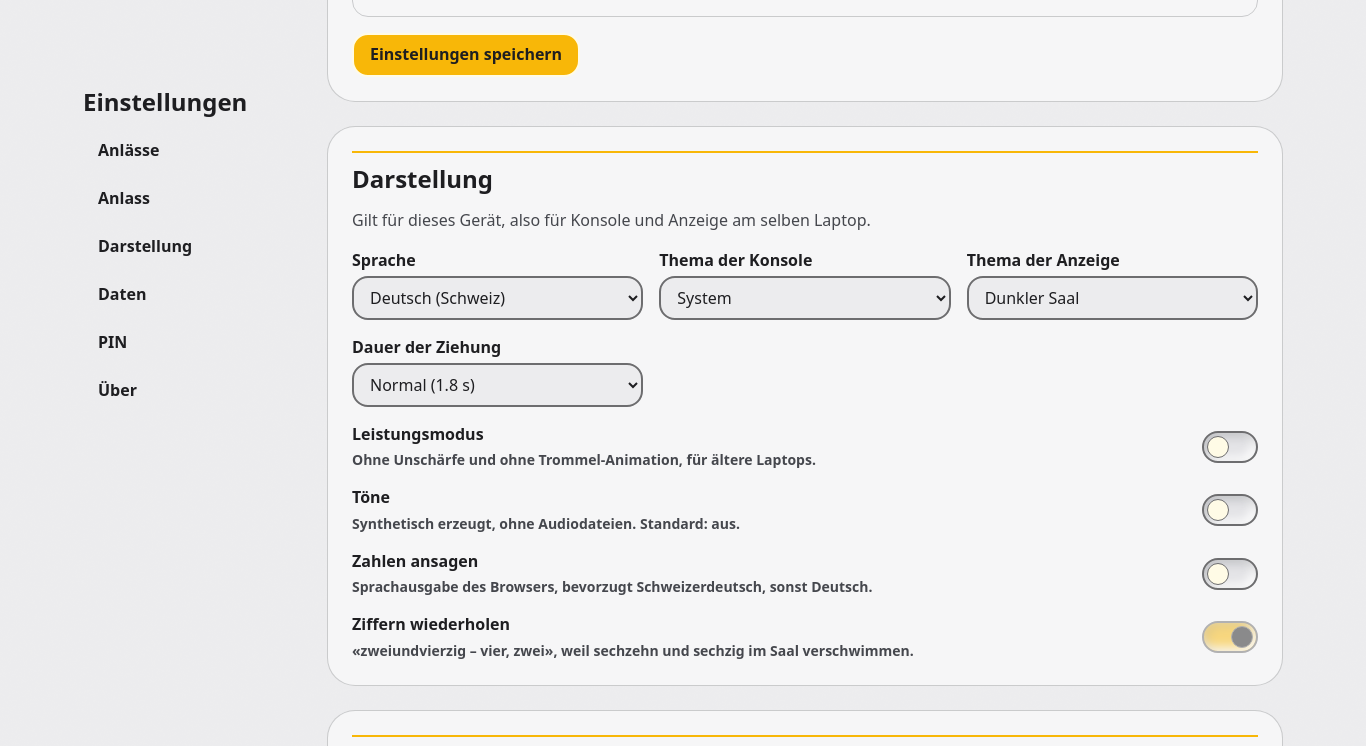
Test: Darstellung › applies device preferences immediately
The image size is (1366, 746).
Later steps or results of the test are not shown.
(page scrolled)
Select "Spannend (3 s)" in the dropdown labelled "Dauer der Ziehung". click: (498, 385)
box: [352,363,643,407]
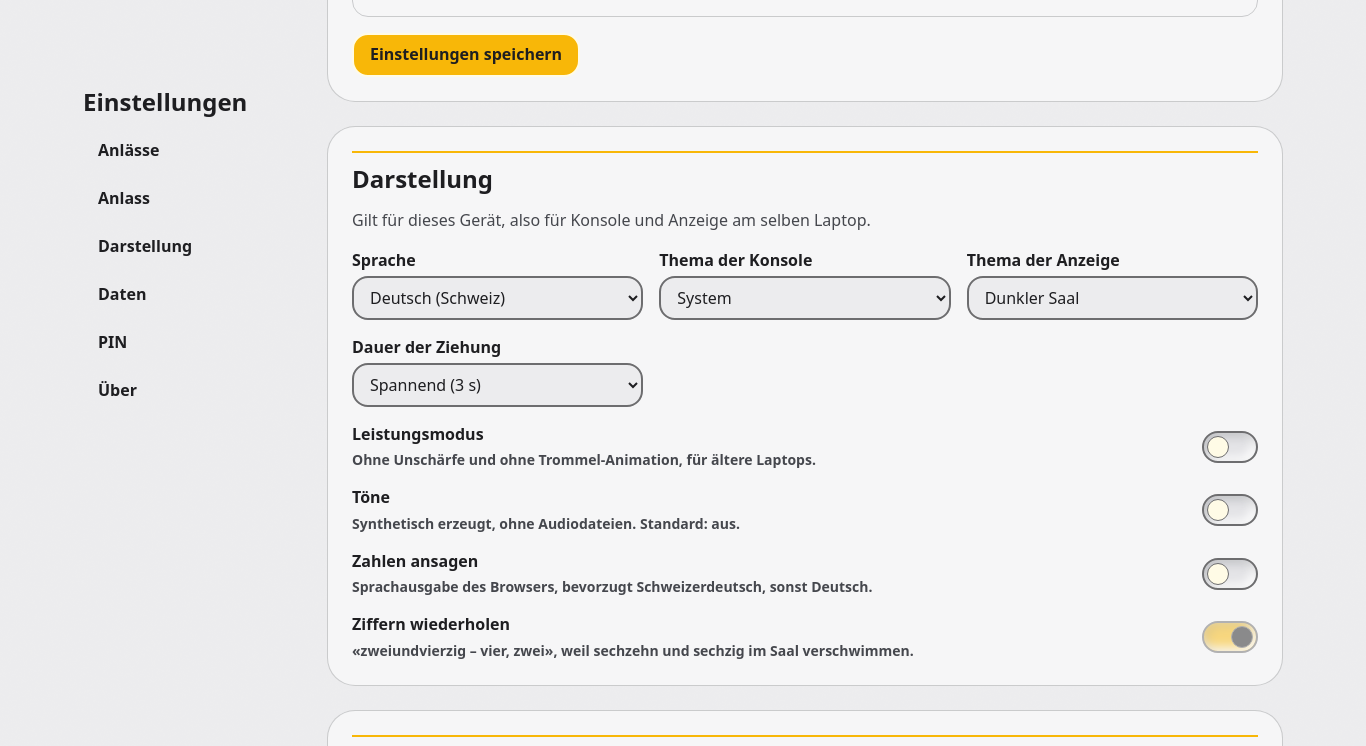
Select "Heller Saal" in the dropdown labelled "Thema der Anzeige". click: (1112, 298)
box: [967,276,1258,320]
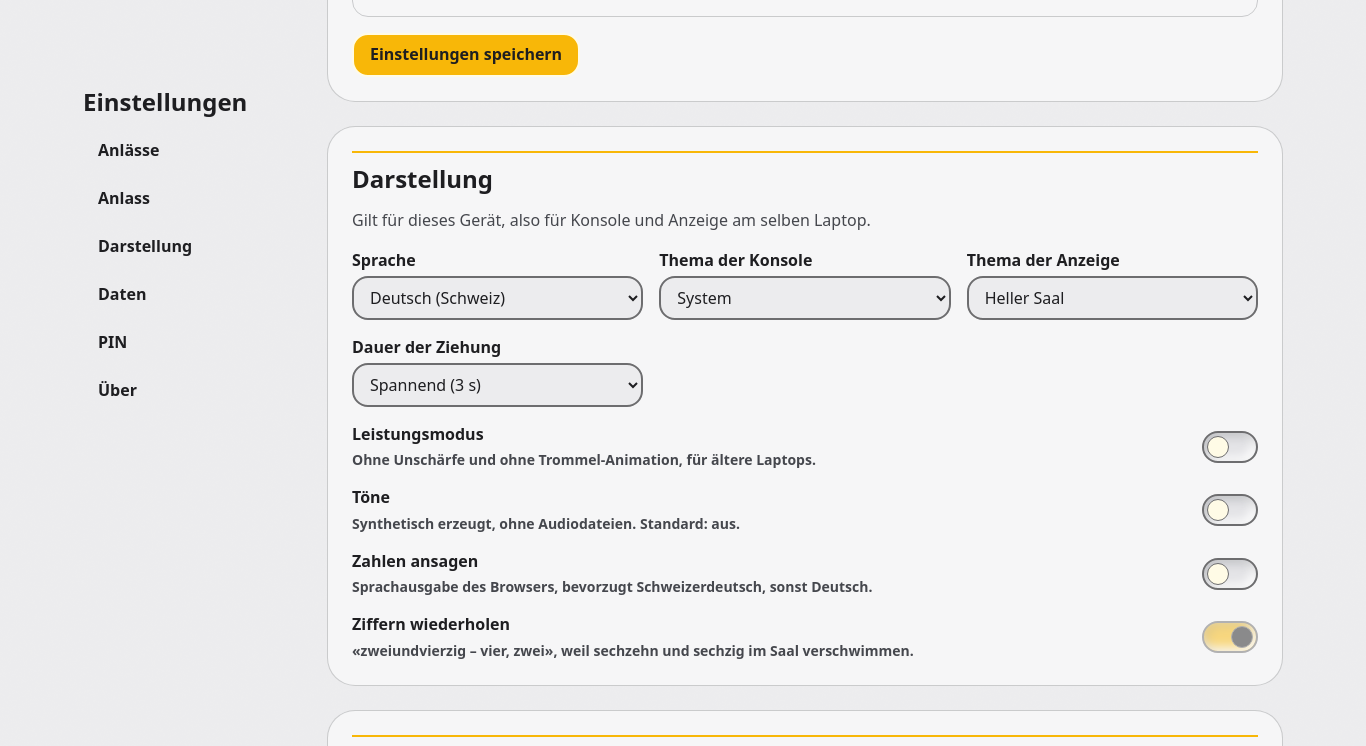
Select "Dunkler Saal" in the dropdown labelled "Thema der Konsole". click: (805, 298)
box: [659,276,951,320]
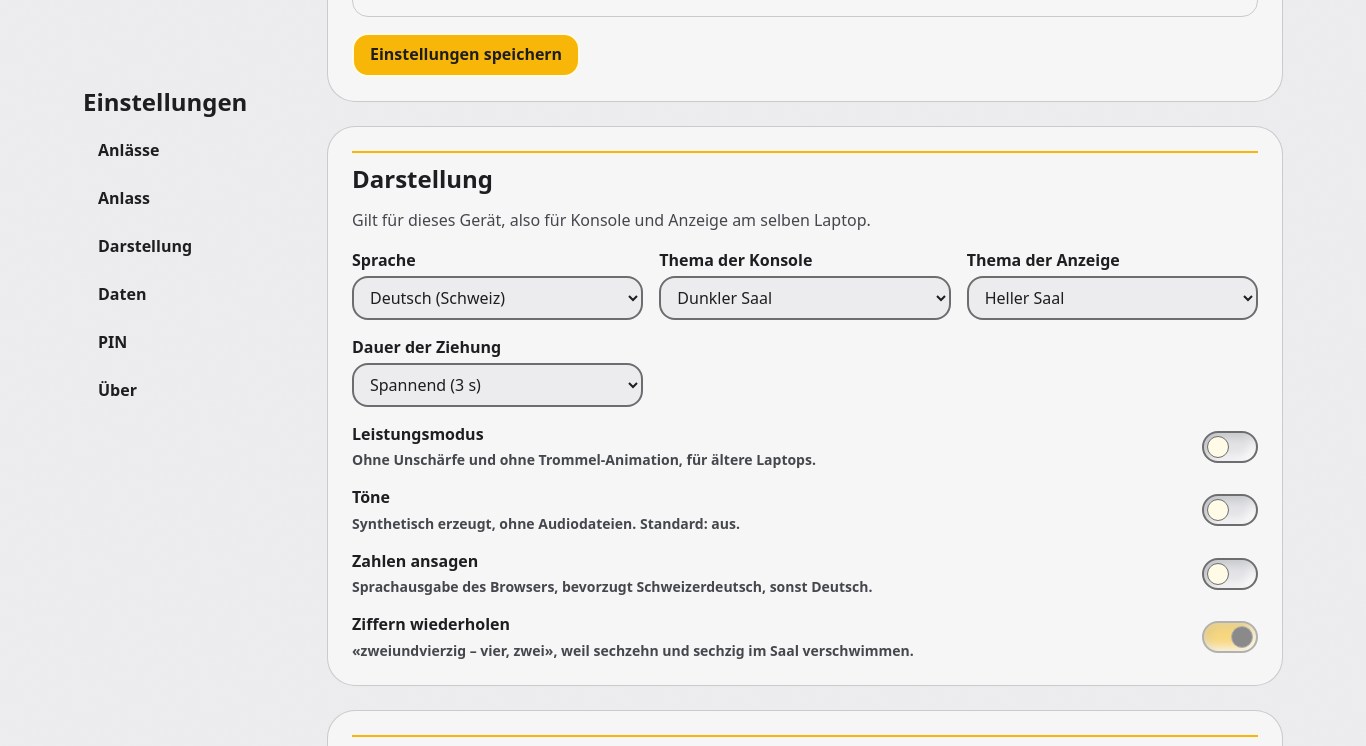
Click the switch labelled "Leistungsmodus". click: (1230, 447)
box: [1202,431,1258,463]
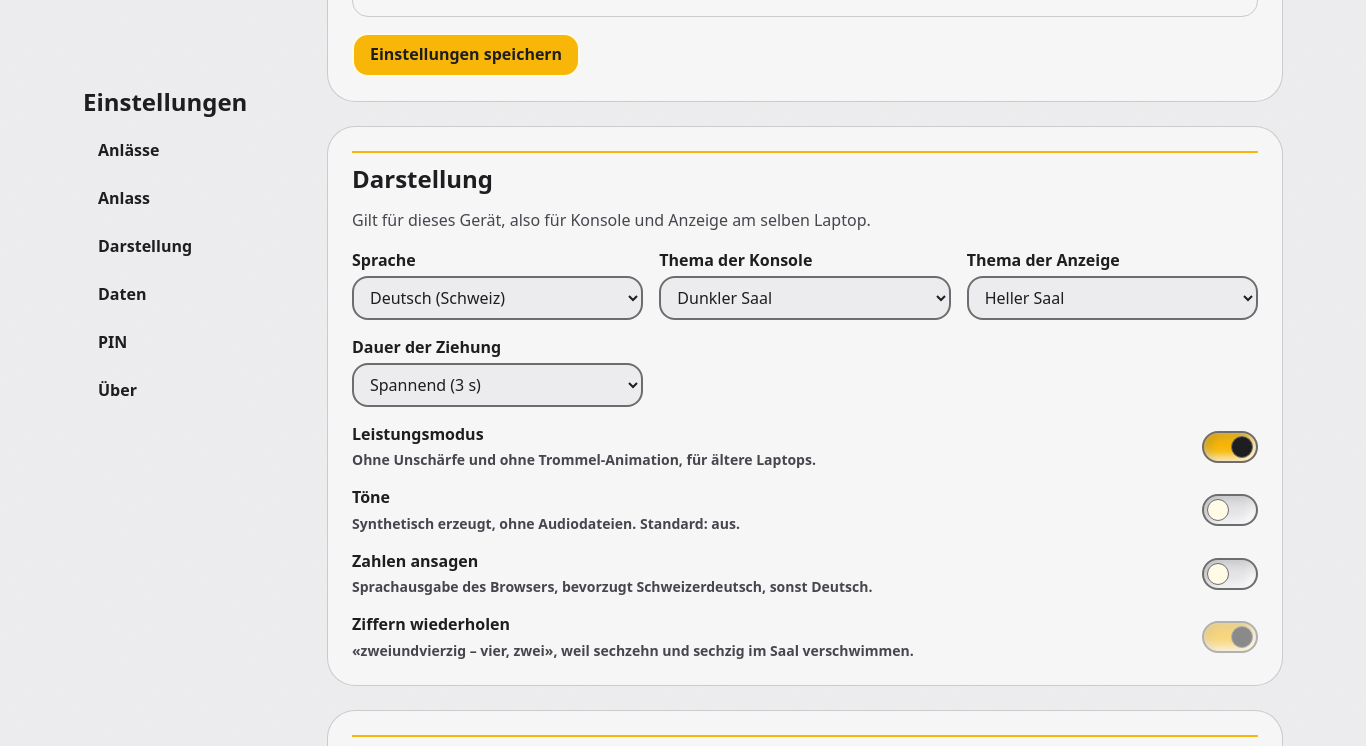
Click the switch labelled "Töne Synthetisch erzeugt, ohne Audiodateien. Standard: aus.". click: (1230, 510)
box: [1202,494,1258,526]
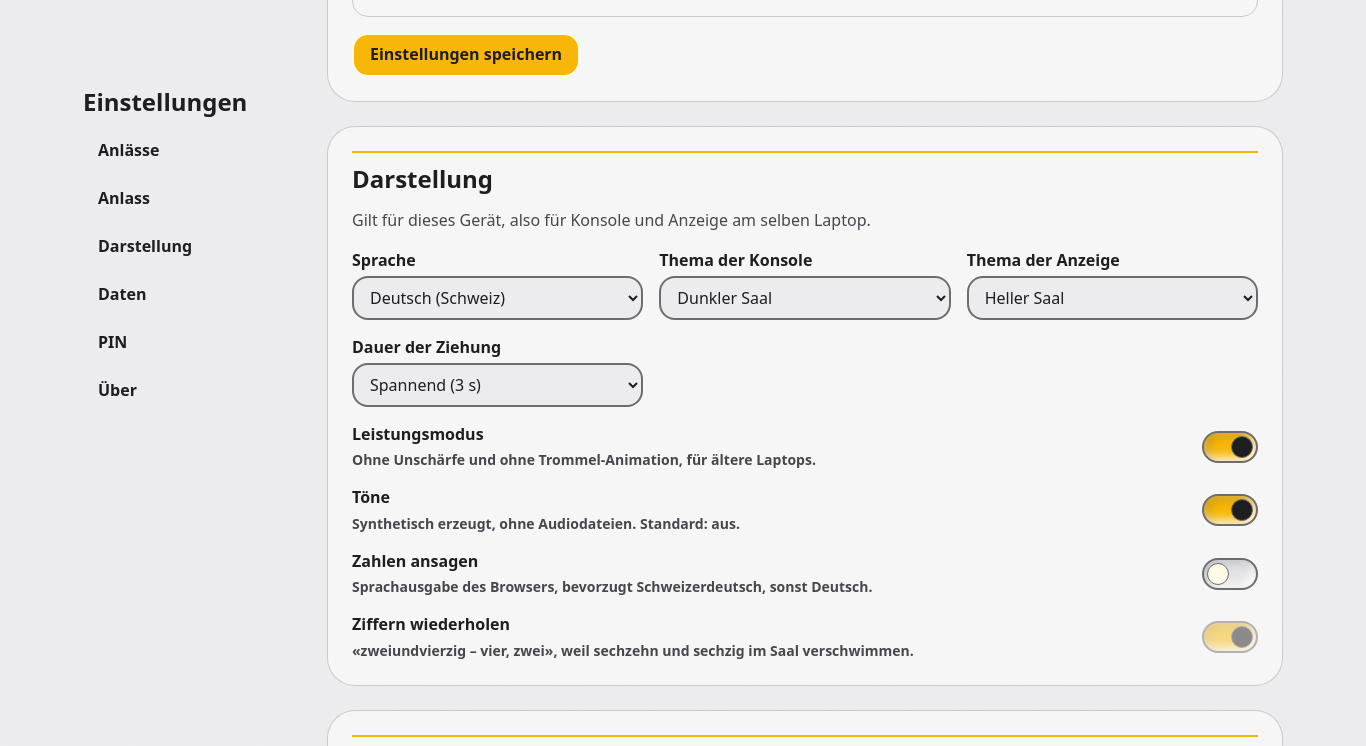
Click the switch labelled "Zahlen ansagen". click: (1230, 574)
box: [1202,558,1258,590]
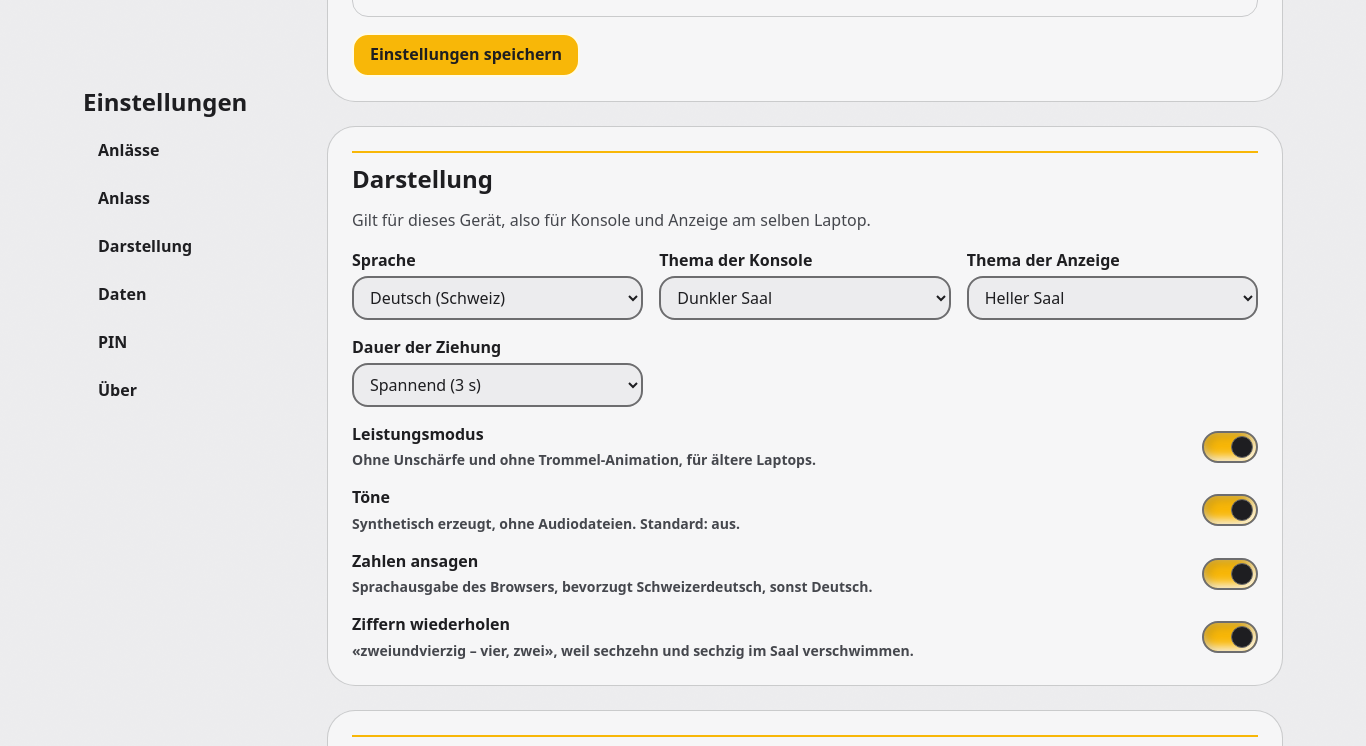
expect the switch labelled "Ziffern wiederholen" is enabled: met, box [1202,621,1258,653]
